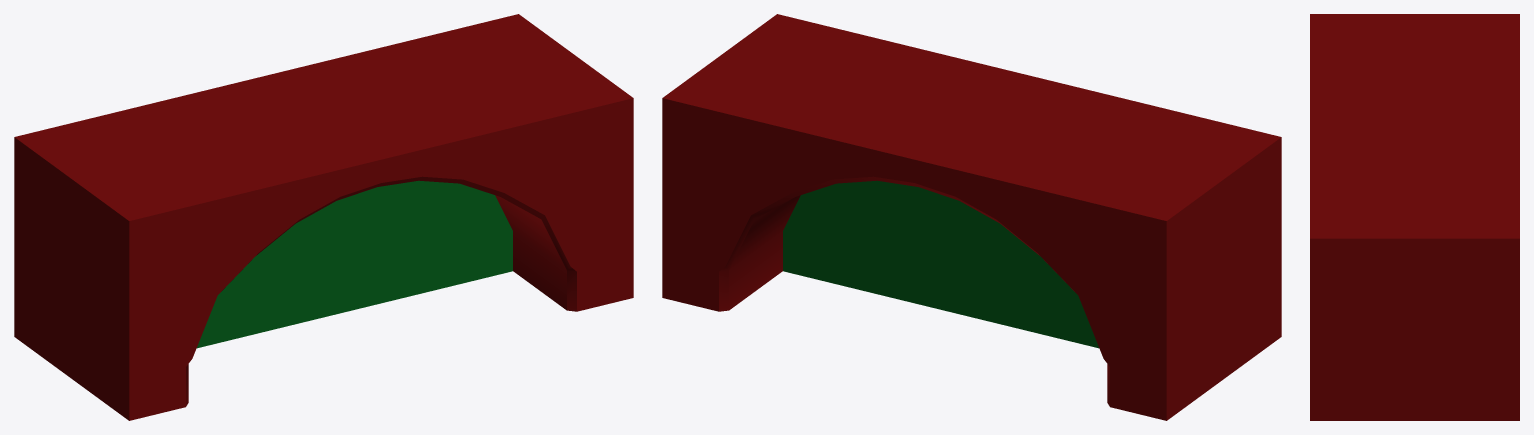
The model's file is Tunnel.FBX.
The picture shows the model from 3 angles, left to right: view 1: azimuth 30°, elevation 25°; view 2: azimuth 150°, elevation 25°; view 3: azimuth 270°, elevation 25°; orthographic projection. The views are drawn at different scales.
Parts seen in each view (by area): view 1: WTunnel, WTunnelBars; view 2: WTunnel, WTunnelBars; view 3: WTunnel.
Boxes of the visible parts, box(x1,y1,x2,y2) form: WTunnel: box(14, 14, 633, 420); WTunnelBars: box(197, 180, 512, 348); WTunnel: box(662, 14, 1281, 420); WTunnelBars: box(783, 180, 1098, 348); WTunnel: box(1310, 14, 1519, 420).
Size of the model in its own units: 78.74 by 29.8 by 31.08.
